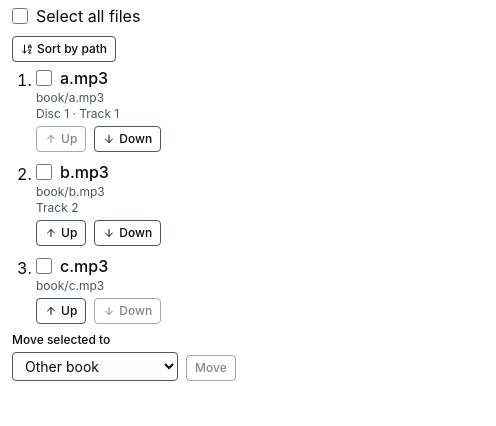
Scenario: GroupFiles › moving selected files › shows the alert and reloads when excluding is rejected
Click the checkbox named "Select a.mp3" at [44, 78], box [36,70,52,86]
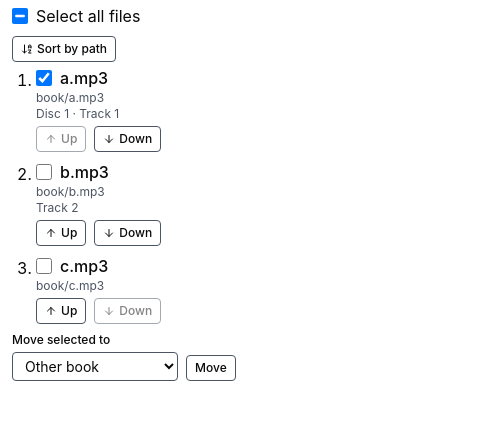
Select "Excluded files" in the dropdown labelled "Move selected to" at [95, 366], box [12,352,178,381]
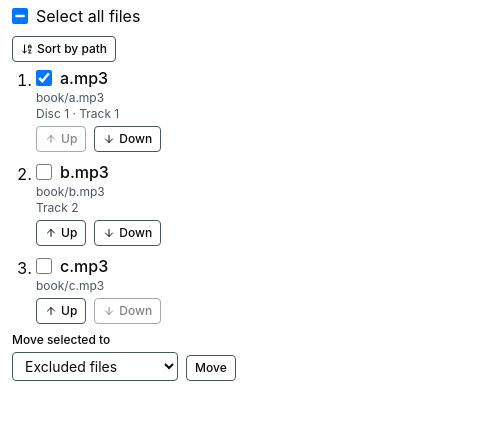
Click the button "Move" at [211, 368], box [186,355,236,381]
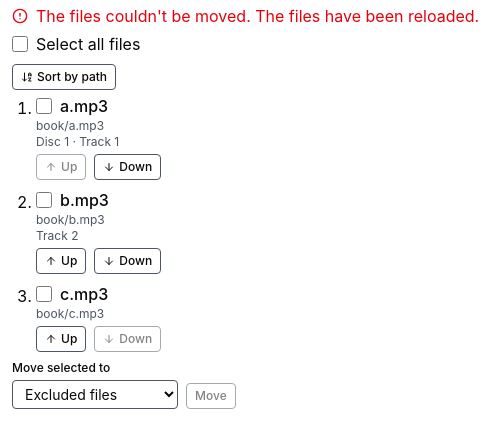
expect the message shows "couldn't be moved": met, box [36,6,479,26]
